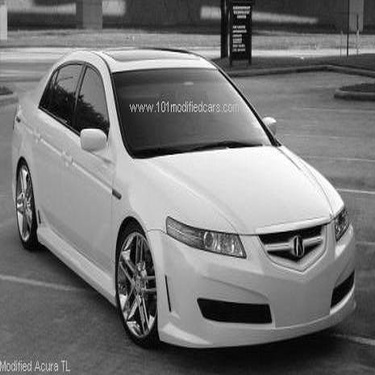car: (2, 42, 360, 350)
